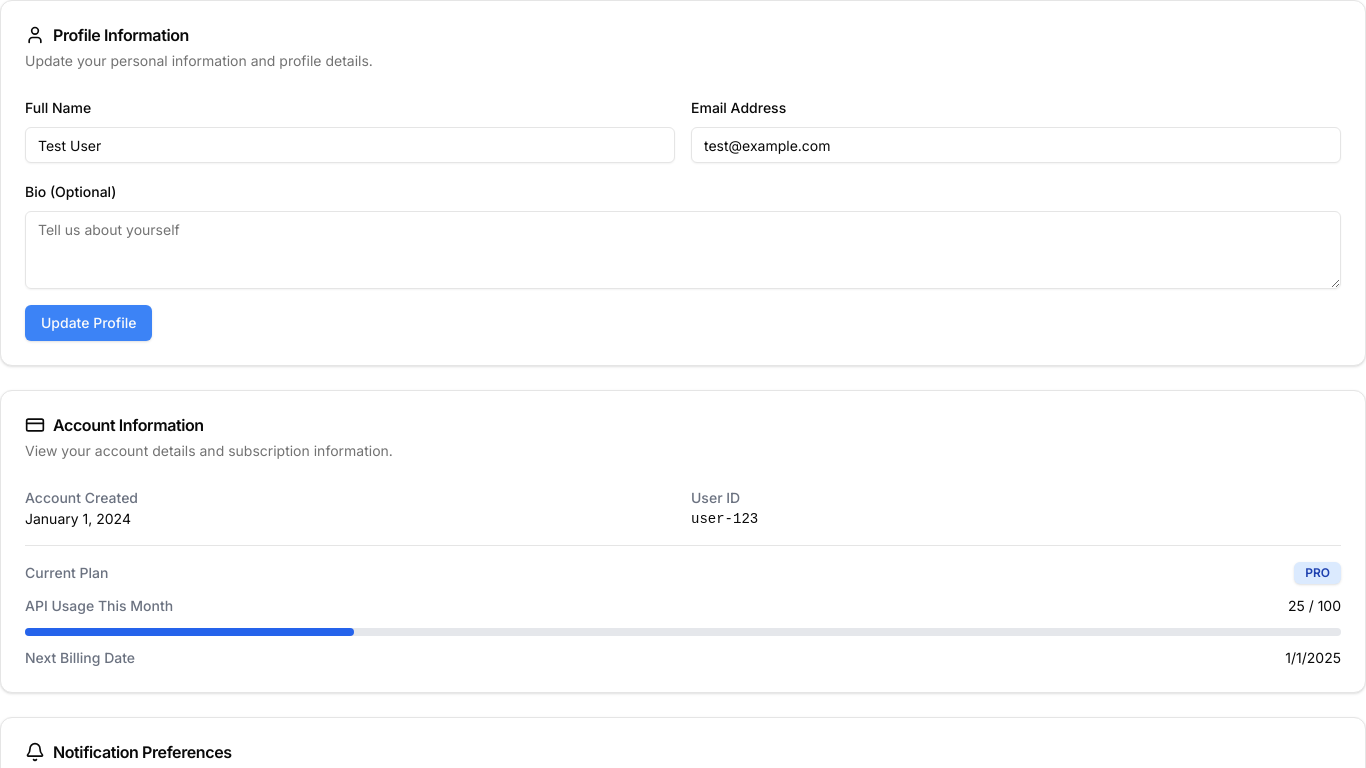
it: UserSettingsForm › should show loading state during update
Click the button "Update Profile" at (89, 323), box x1=25 y1=305 x2=152 y2=341
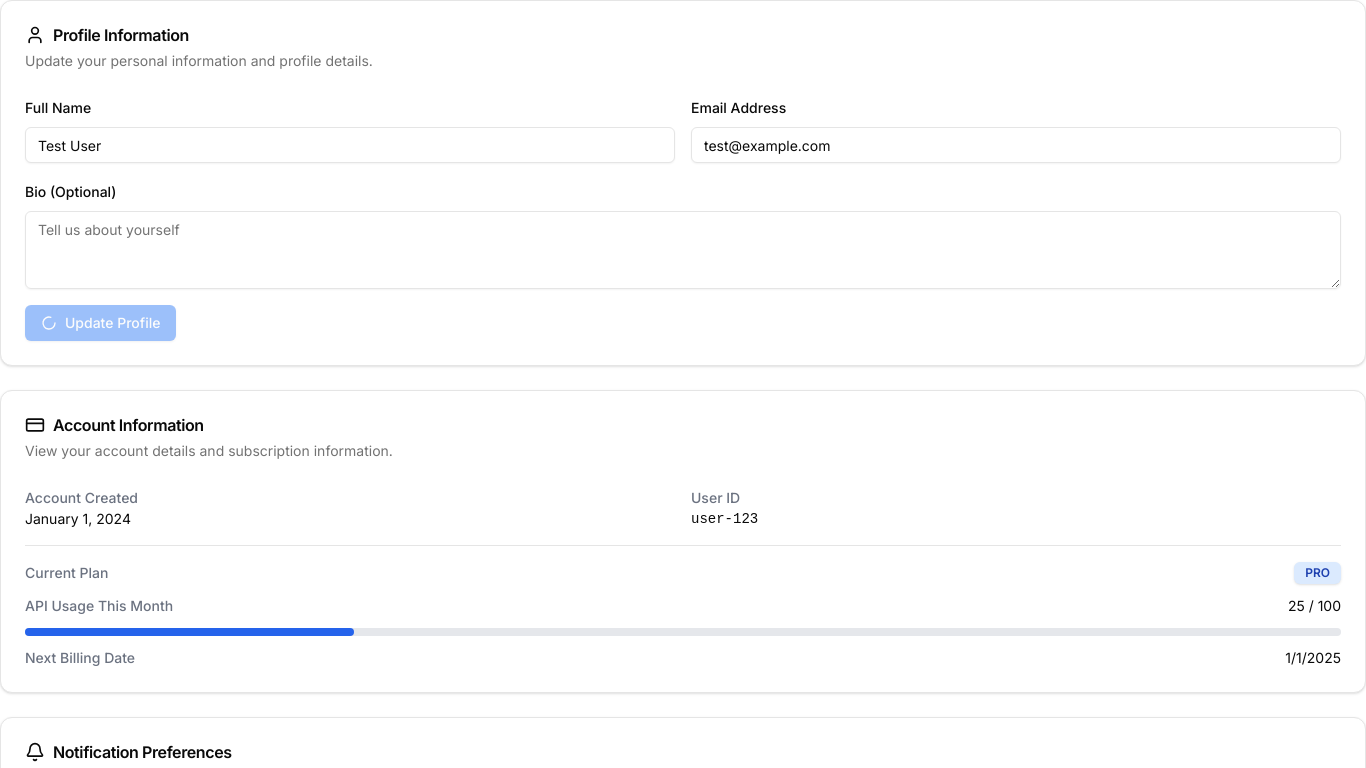
expect the button "Update Profile" is disabled: met, box x1=25 y1=305 x2=176 y2=341
